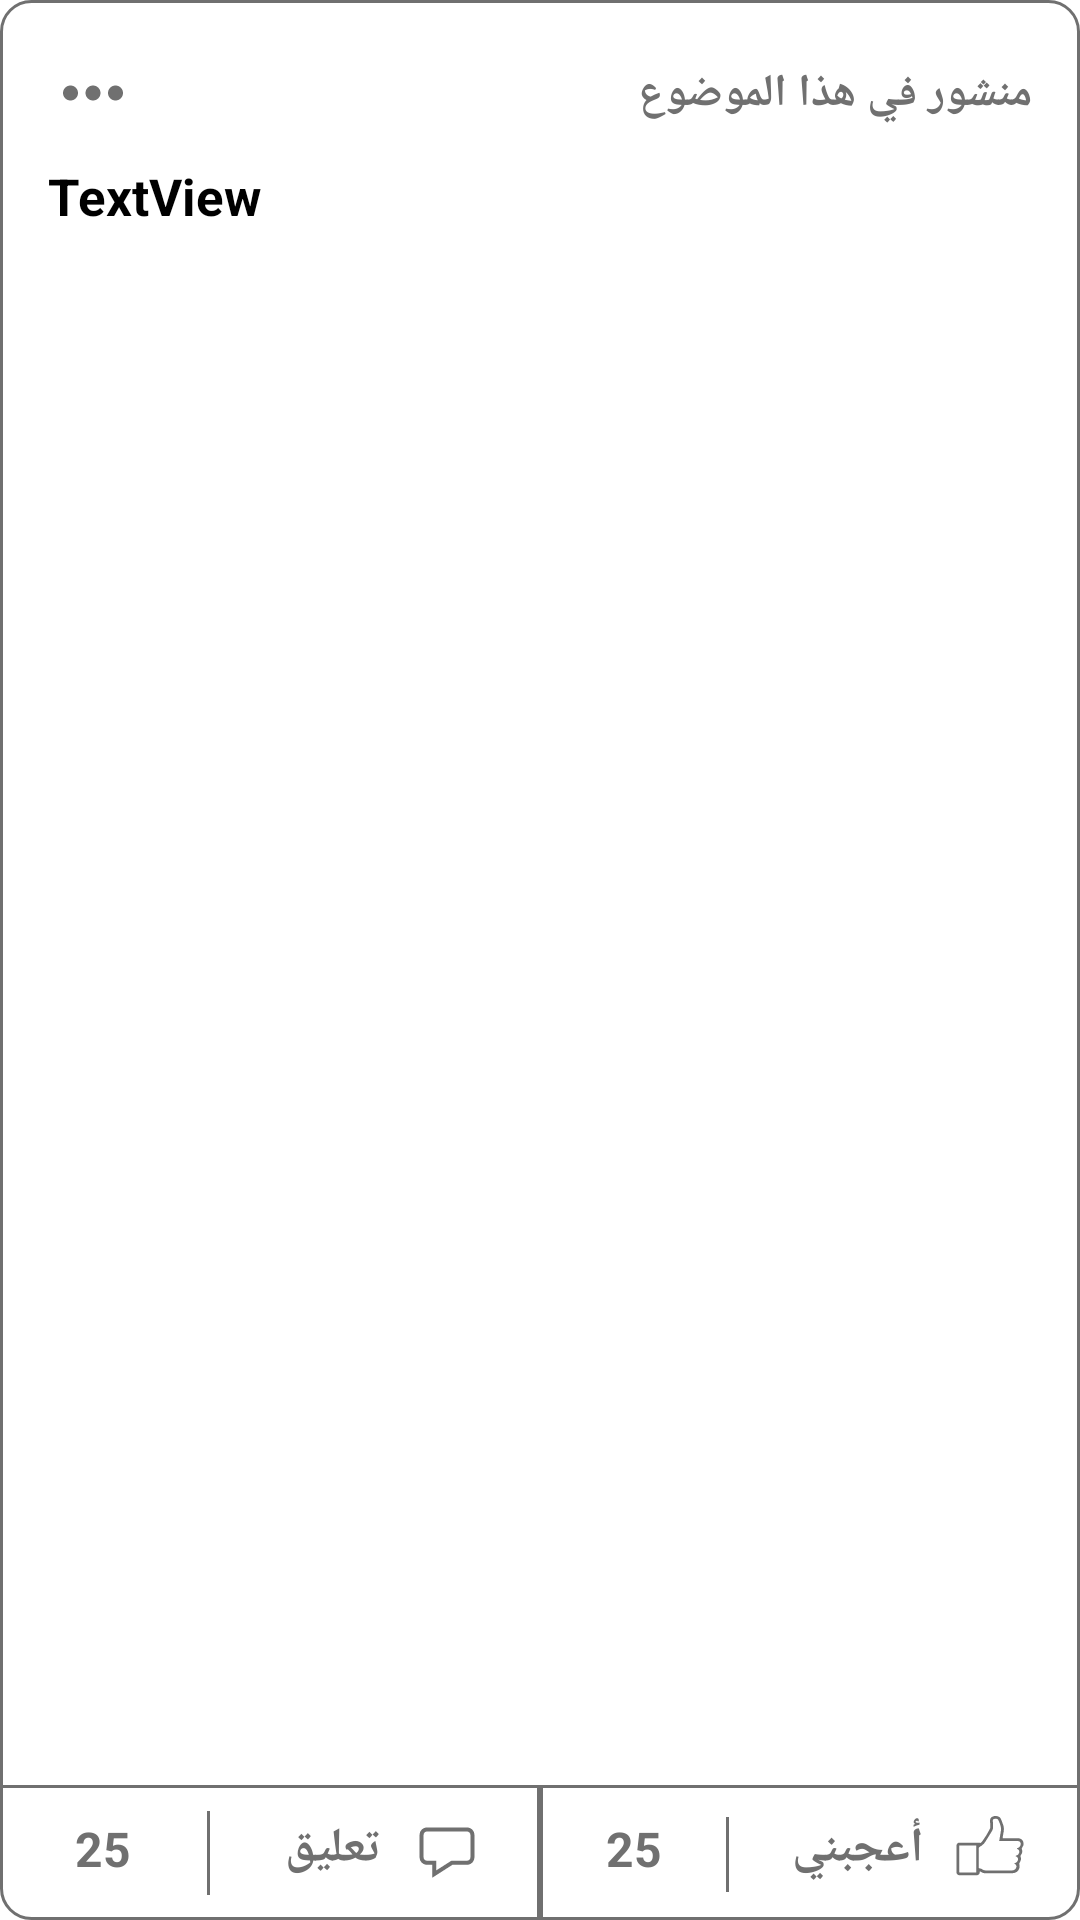

Where to tap for icons on this 1080px×1920px app screen, as point (x, y):
comments: point (447, 1852)
like: point (990, 1846)
more post: point (93, 93)
